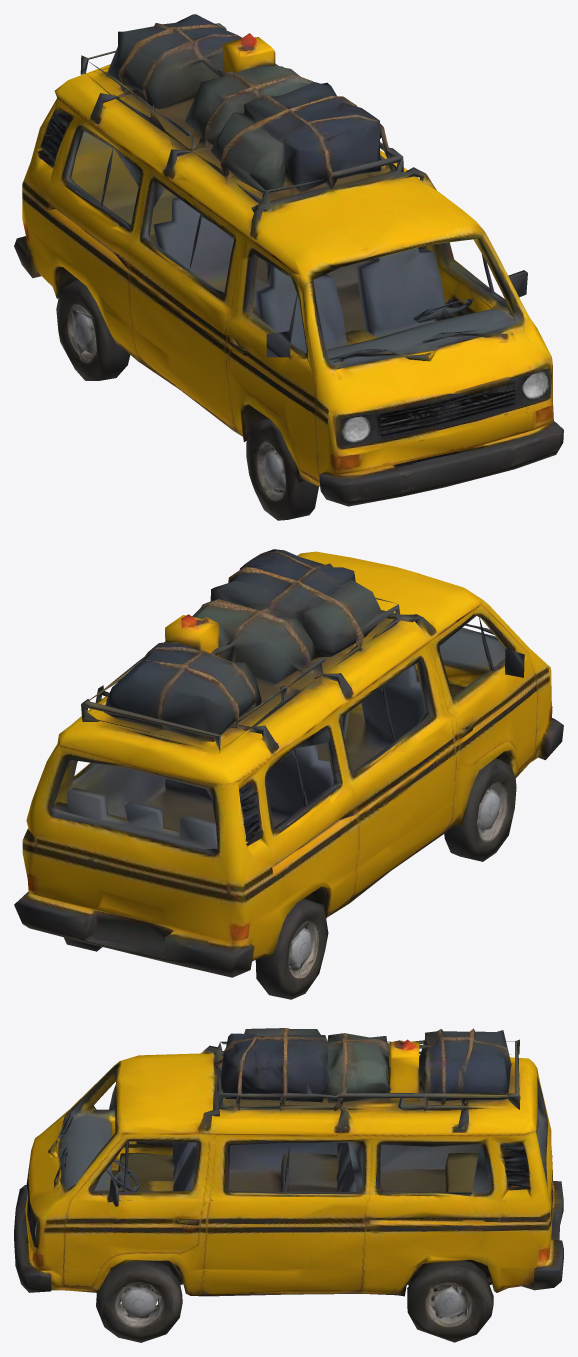
The model's file is danfo.glb.
The picture shows the model from 3 angles, top to bottom: view 1: azimuth 30°, elevation 25°; view 2: azimuth 150°, elevation 25°; view 3: azimuth 270°, elevation 25°; orthographic projection. The views are drawn at different scales.
Visible parts, largest first — view 1: tripo_node_87ee9f7e-aeac-4244-9aac-5ab9be66e185; view 2: tripo_node_87ee9f7e-aeac-4244-9aac-5ab9be66e185; view 3: tripo_node_87ee9f7e-aeac-4244-9aac-5ab9be66e185.
Boxes of the visible parts, x1,y1,x2,y2 form: tripo_node_87ee9f7e-aeac-4244-9aac-5ab9be66e185: [14, 14, 563, 520]; tripo_node_87ee9f7e-aeac-4244-9aac-5ab9be66e185: [14, 549, 563, 999]; tripo_node_87ee9f7e-aeac-4244-9aac-5ab9be66e185: [14, 1028, 563, 1342].
Bounding box in the file's own units: 0.4472 × 0.5393 × 1.
1 material, 1 textured.
